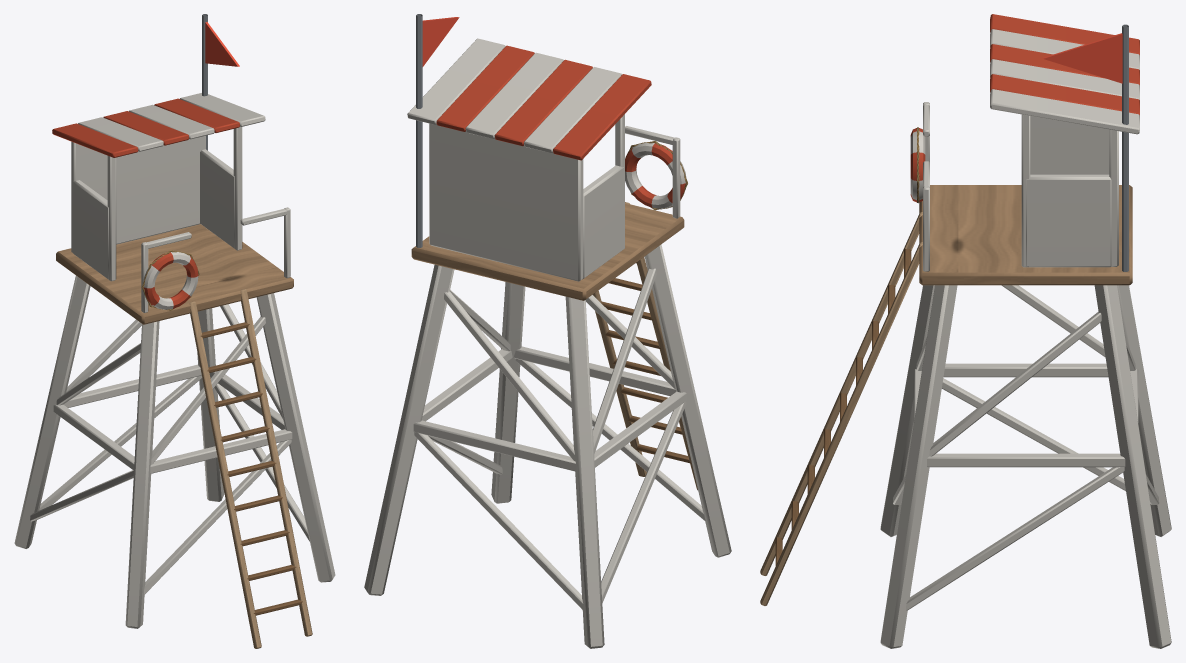
The model's file is lifeguard-tower.glb.
3 views of the same model, side by side, from view 1: azimuth 30°, elevation 25°; view 2: azimuth 150°, elevation 25°; view 3: azimuth 270°, elevation 25° (orthographic). The views are drawn at different scales.
Parts seen in each view (by area): view 1: lifeguard-tower; view 2: lifeguard-tower; view 3: lifeguard-tower.
Part boxes in pixels (box(x1,y1,x2,y2)): lifeguard-tower: box(14, 14, 335, 648); lifeguard-tower: box(364, 14, 731, 648); lifeguard-tower: box(760, 14, 1171, 648).
Bounding box in the file's own units: 2.05 × 4.71 × 2.89.
4 materials, 2 textured.
